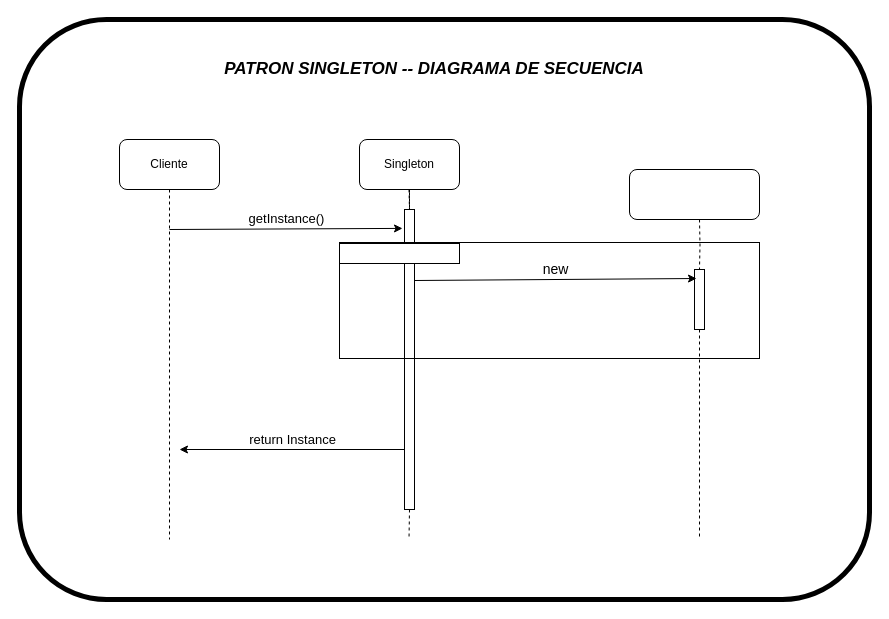
The diagram is 889 pixels wide and 619 high, and some of its shapes have lost their labels. The shapes that lost their labels are listed below. From the top down, each one's centre as x and y in pixels, then its label:
At point 694,194: "Instancia:Singleton".
At point 399,253: "Instancia == null".
